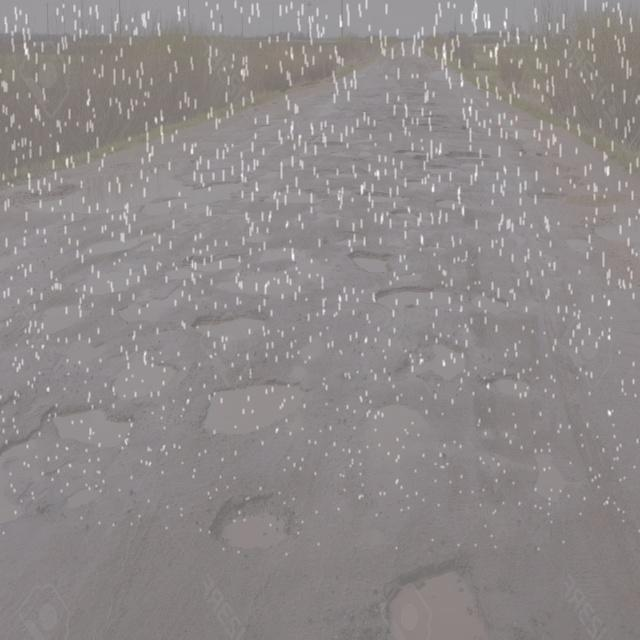Pothole: (376, 548, 492, 640), (178, 364, 314, 442), (206, 487, 304, 551), (47, 398, 147, 457), (378, 326, 473, 386), (132, 178, 255, 220), (183, 309, 283, 356), (355, 399, 441, 450), (120, 277, 194, 323), (155, 248, 242, 284), (366, 281, 446, 320), (524, 442, 572, 505), (399, 80, 451, 137), (0, 403, 43, 469), (70, 260, 148, 296), (26, 300, 95, 338), (480, 363, 538, 404), (586, 215, 640, 259), (79, 230, 163, 257), (341, 243, 396, 278), (58, 477, 111, 513), (266, 182, 331, 210), (404, 167, 450, 196), (566, 234, 594, 265), (524, 186, 558, 208), (446, 147, 491, 162), (310, 140, 342, 158), (393, 142, 427, 158), (350, 190, 396, 201), (385, 204, 411, 222), (434, 198, 464, 210), (426, 240, 447, 256)
